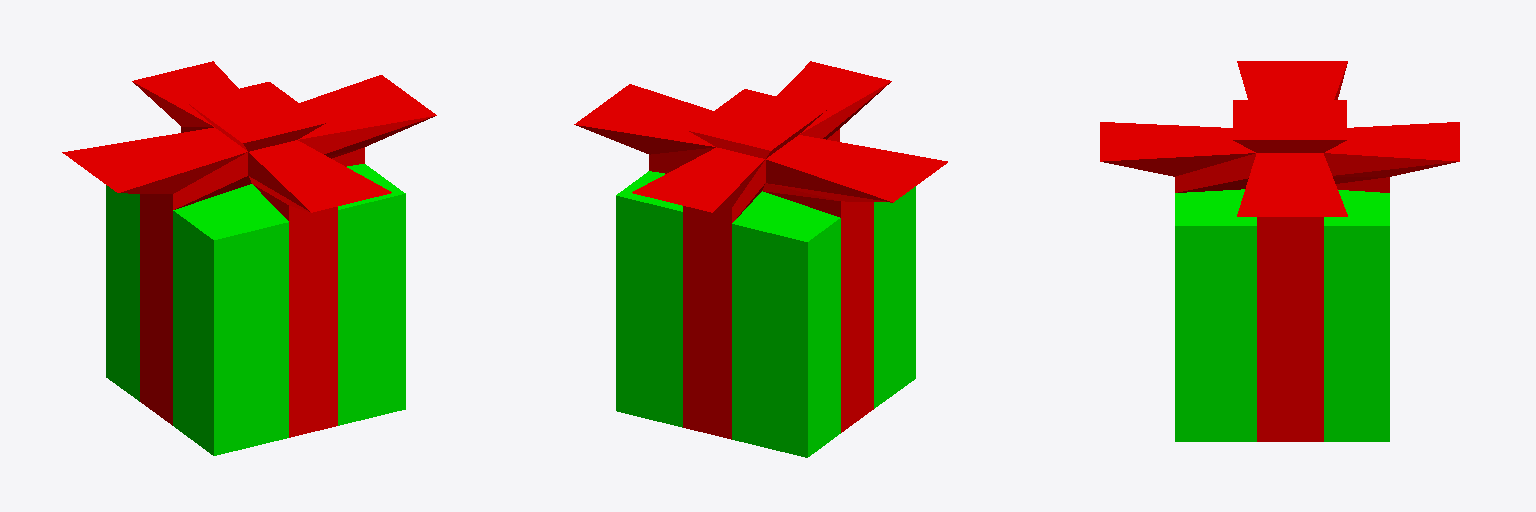
File: Present_3.obj
The picture shows the model from 3 angles: view 1: azimuth 30°, elevation 25°; view 2: azimuth 150°, elevation 25°; view 3: azimuth 270°, elevation 25°; orthographic projection.
Visible parts, largest first — view 1: Box_01; view 2: Box_01; view 3: Box_01.
Boxes of the visible parts, x1=… form: Box_01: x1=62, y1=61, x2=436, y2=455; Box_01: x1=574, y1=61, x2=947, y2=457; Box_01: x1=1100, y1=61, x2=1459, y2=441.
Size of the model in its own units: 0.6177 by 0.5122 by 0.6027.